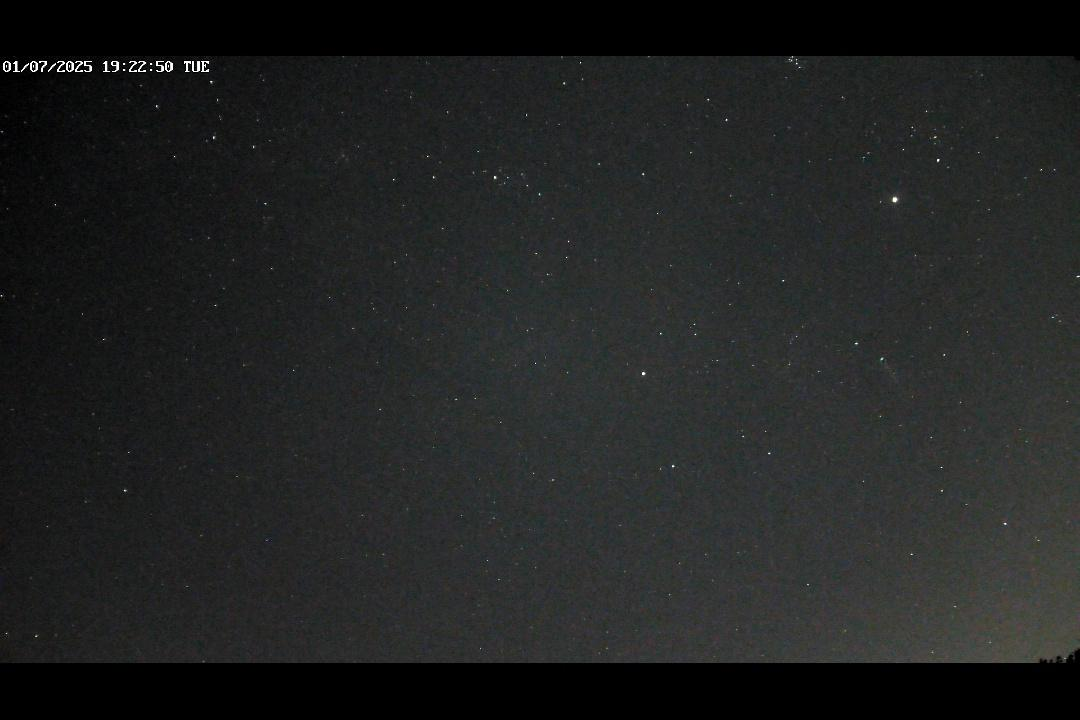Plane: (874, 351, 893, 373)
